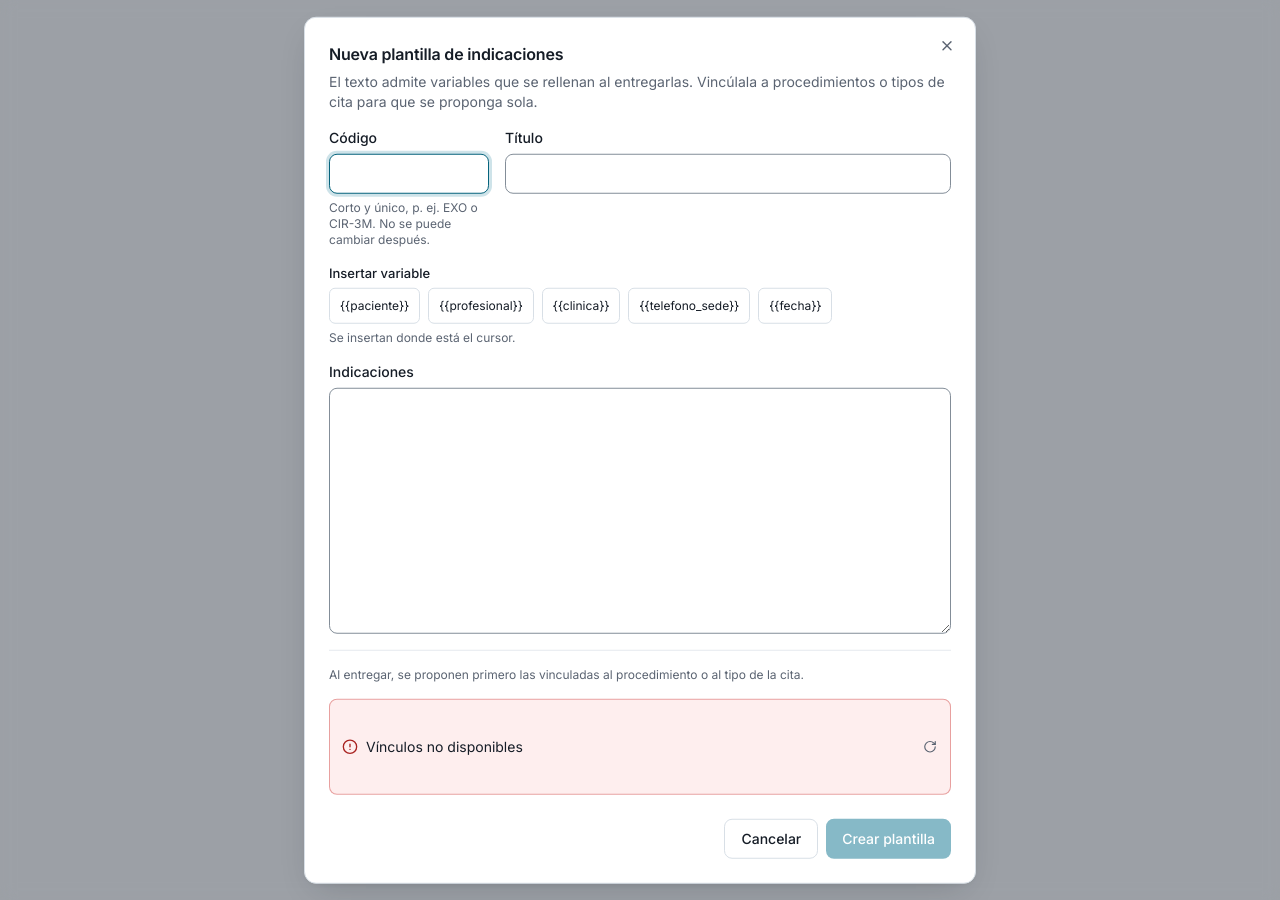
Test: PostOpTemplateFormModal › si fallan las opciones de vínculos, las sustituye con reintento y el resto sigue
This screenshot has width=1280, height=900.
Check: the field labelled "Título" is enabled, box [505, 154, 951, 194]
Click the button named "Reintentar" at (930, 746), box [918, 734, 942, 758]
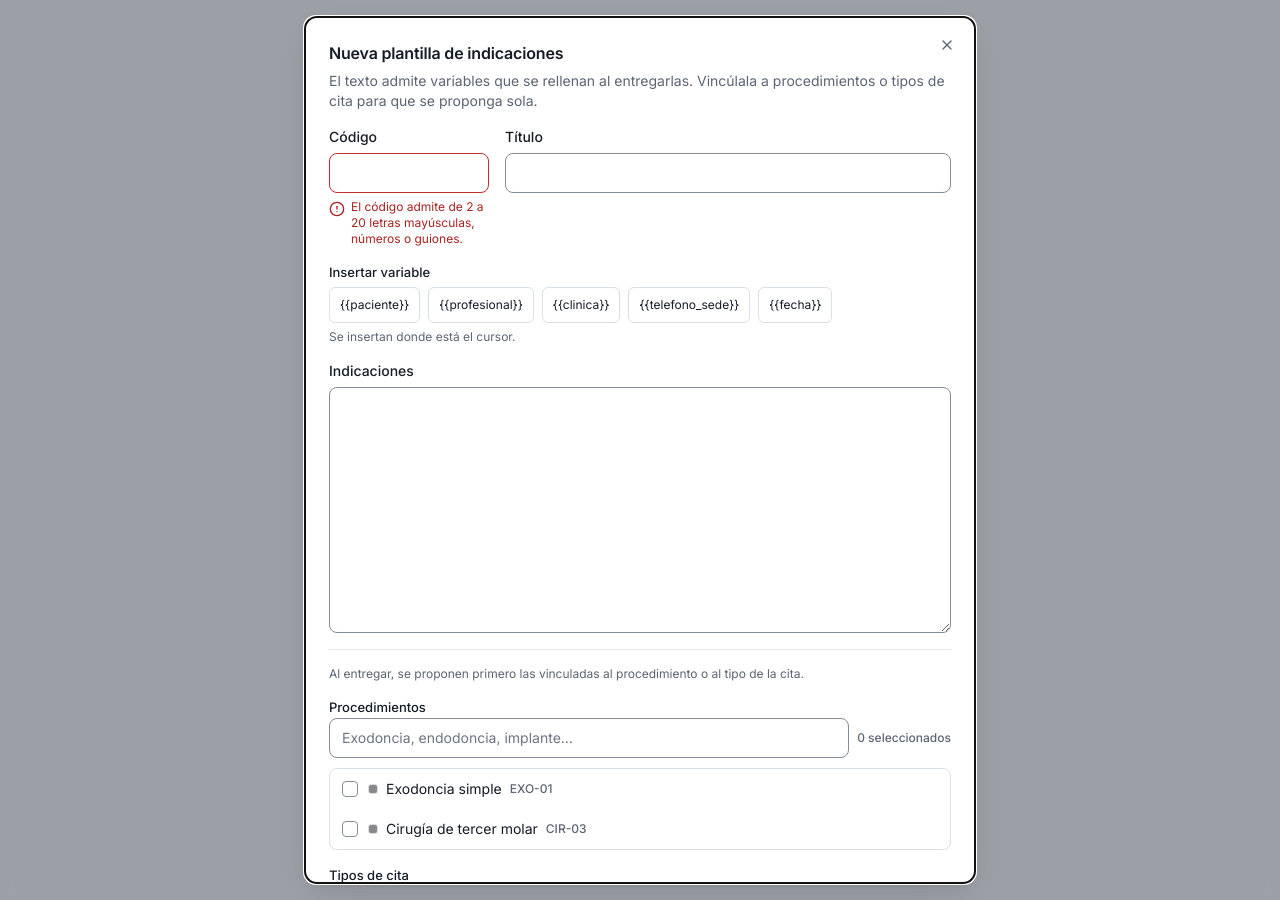
Check: the checkbox labelled "Exodoncia simple EXO-01" is shown, box [342, 780, 358, 796]
